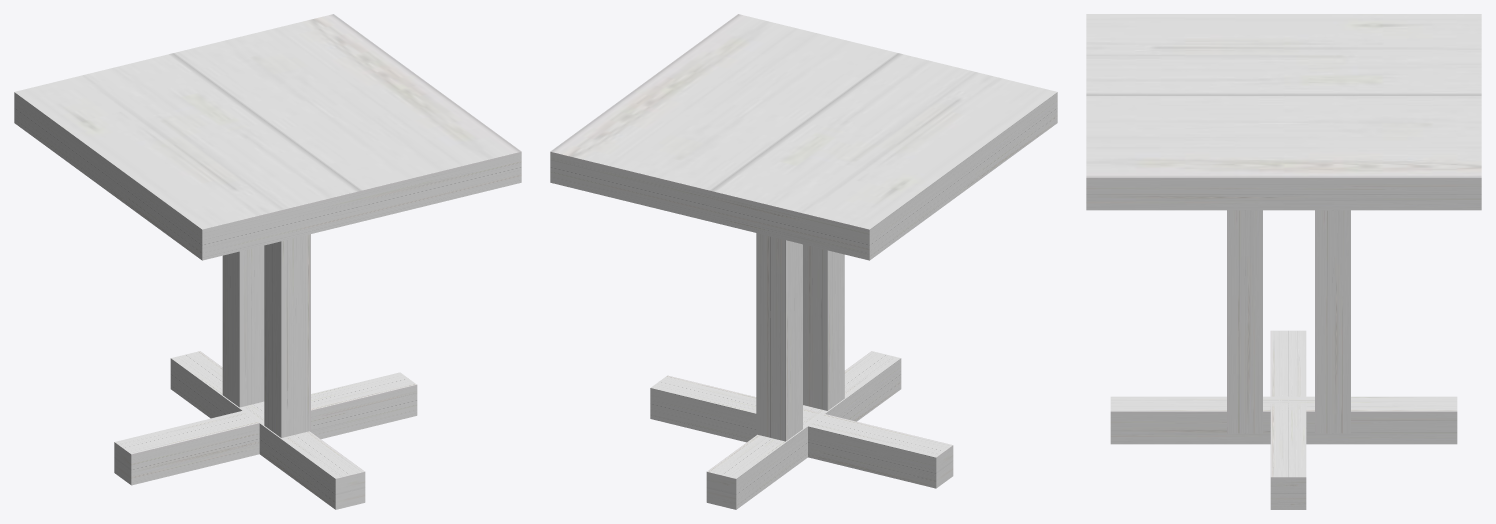
File: table.obj
3 views of the same model, side by side, from view 1: azimuth 30°, elevation 25°; view 2: azimuth 150°, elevation 25°; view 3: azimuth 270°, elevation 25° (orthographic). The views are drawn at different scales.
Visible parts, largest first — view 1: pasted__pCube1; view 2: pasted__pCube1; view 3: pasted__pCube1.
Boxes of the visible parts, x1,y1,x2,y2 form: pasted__pCube1: (14,14,521,509); pasted__pCube1: (550,14,1057,509); pasted__pCube1: (1086,14,1481,509).
Bounding box in the file's own units: 3.41 × 3.31 × 3.48.
1 material, 1 textured.
